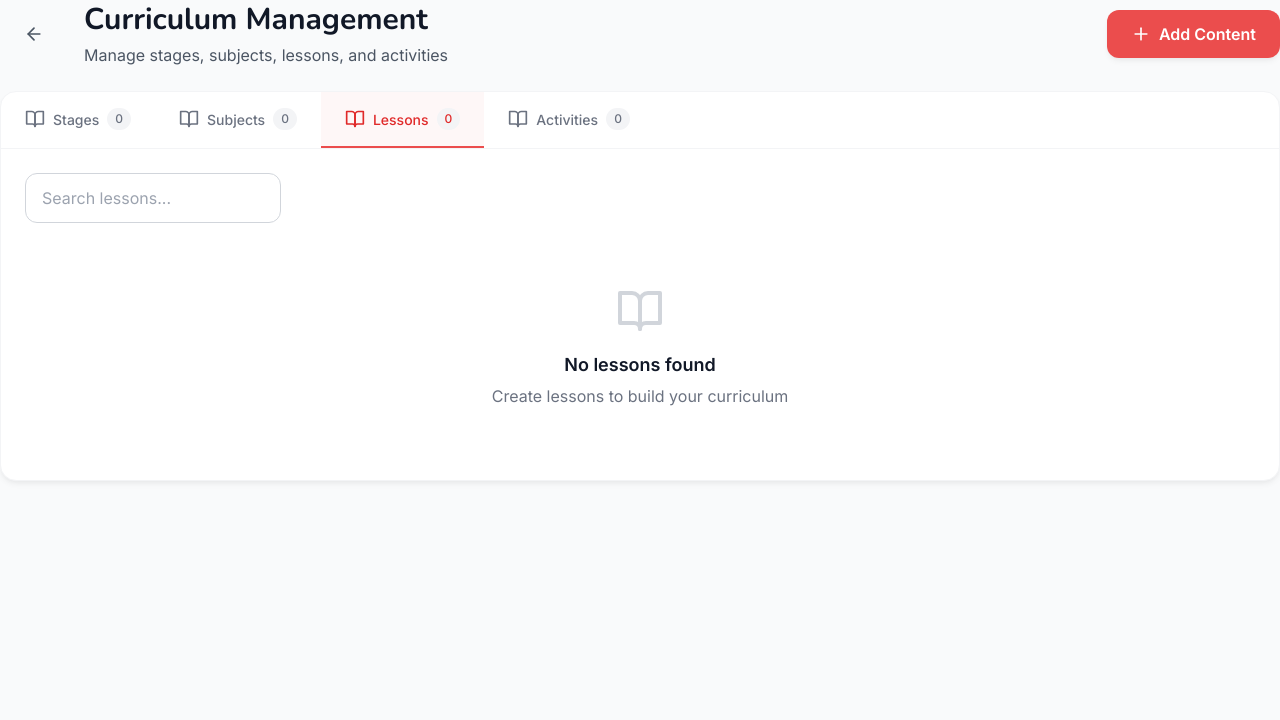
Test case: CurriculumPage — Modal Open/Close › closes the Add Content modal when clicking the X button
Click the button "Add Content". click: [1193, 34]
box: x1=1107 y1=10 x2=1279 y2=58
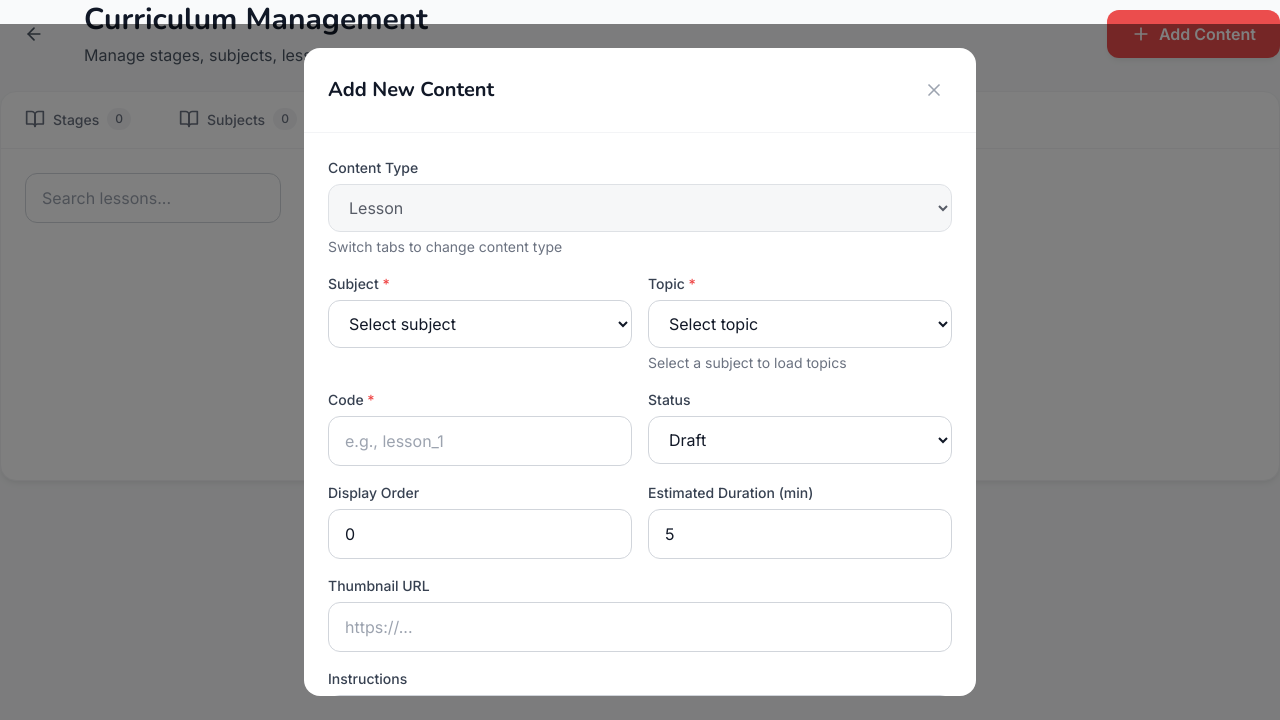
Expected: the heading "Add New Content" is shown, x1=328 y1=75 x2=494 y2=105
Expected: the button is shown
Click the button. click: [934, 90]
box: x1=916 y1=72 x2=952 y2=108
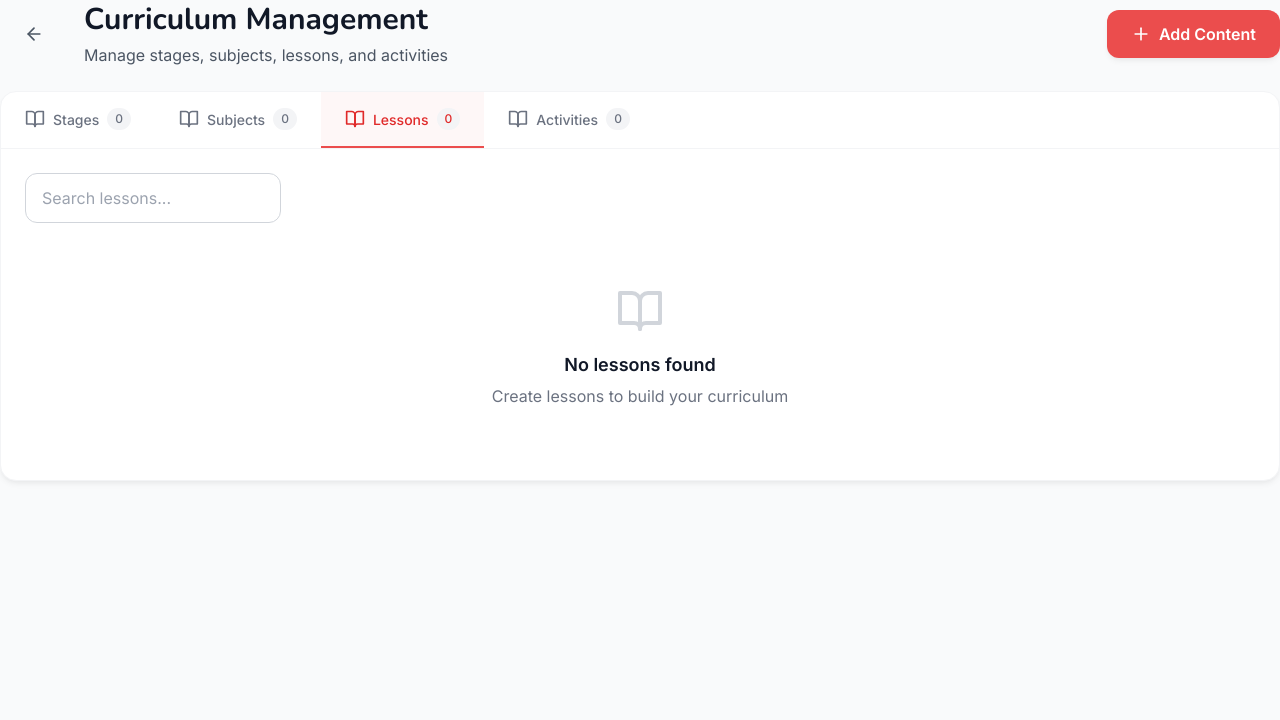
Expected: the heading "Add New Content" is gone
